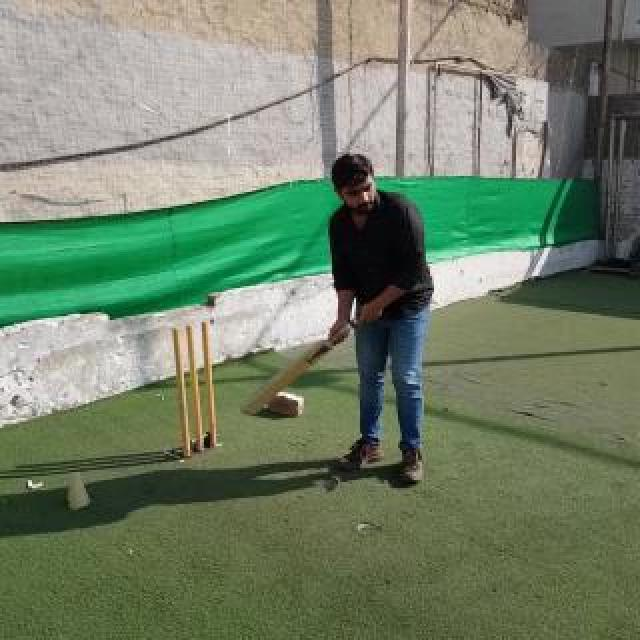bat: (241, 316, 361, 414)
